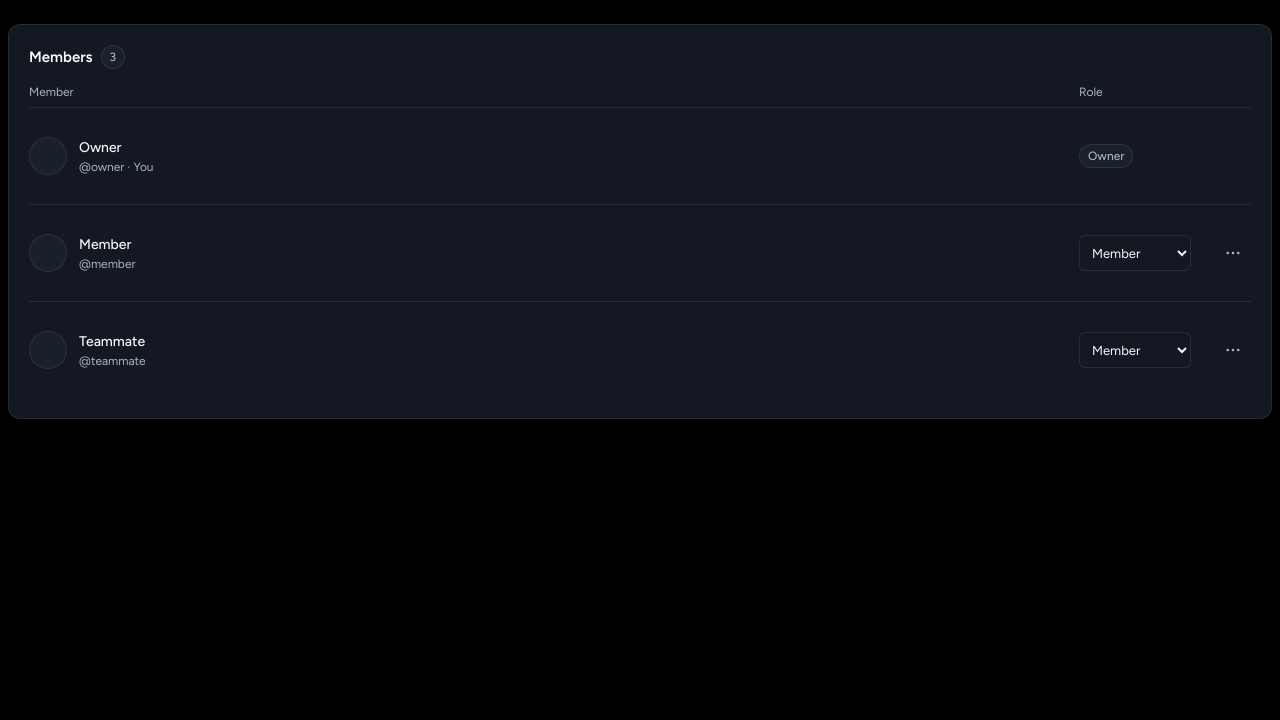
Test case: group member management client flow › keeps a failed removal confirmation open and allows retry
The image size is (1280, 720).
Click the button named "Manage @member" at (1233, 253), box [1215, 235, 1251, 271]
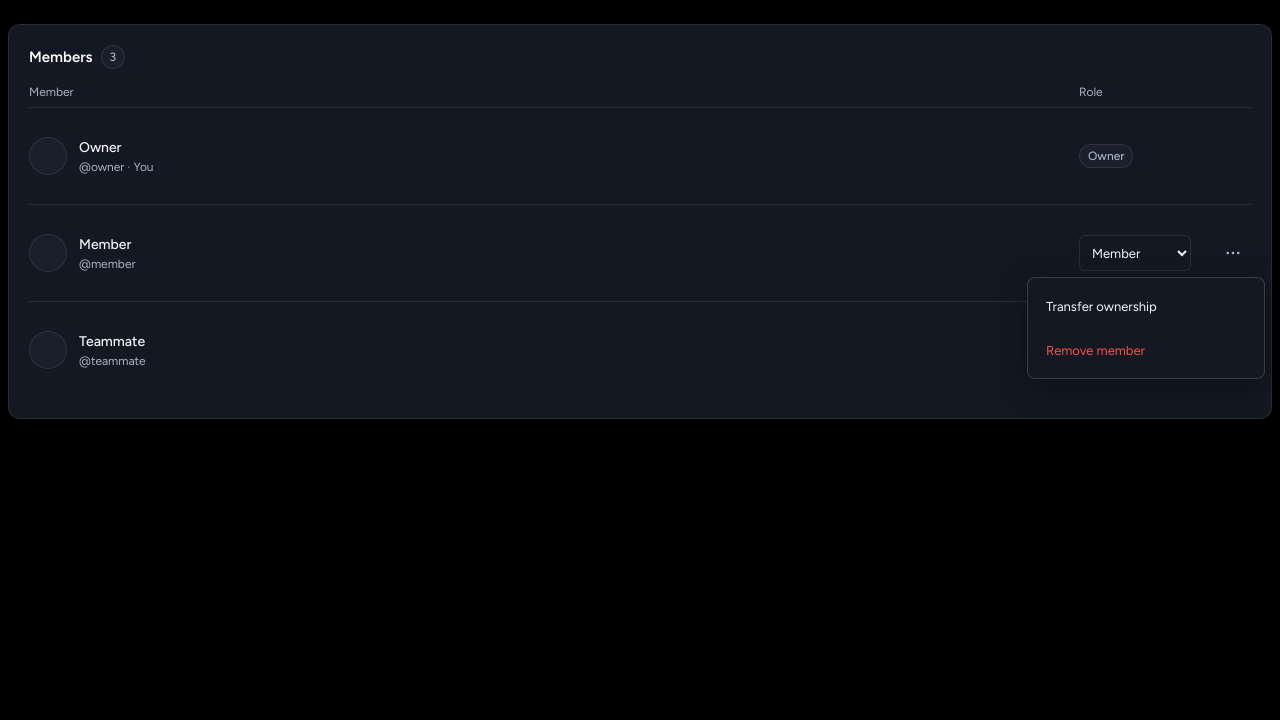
Click the button with aria-label "Remove @member" at (1146, 350), box [1034, 328, 1258, 372]
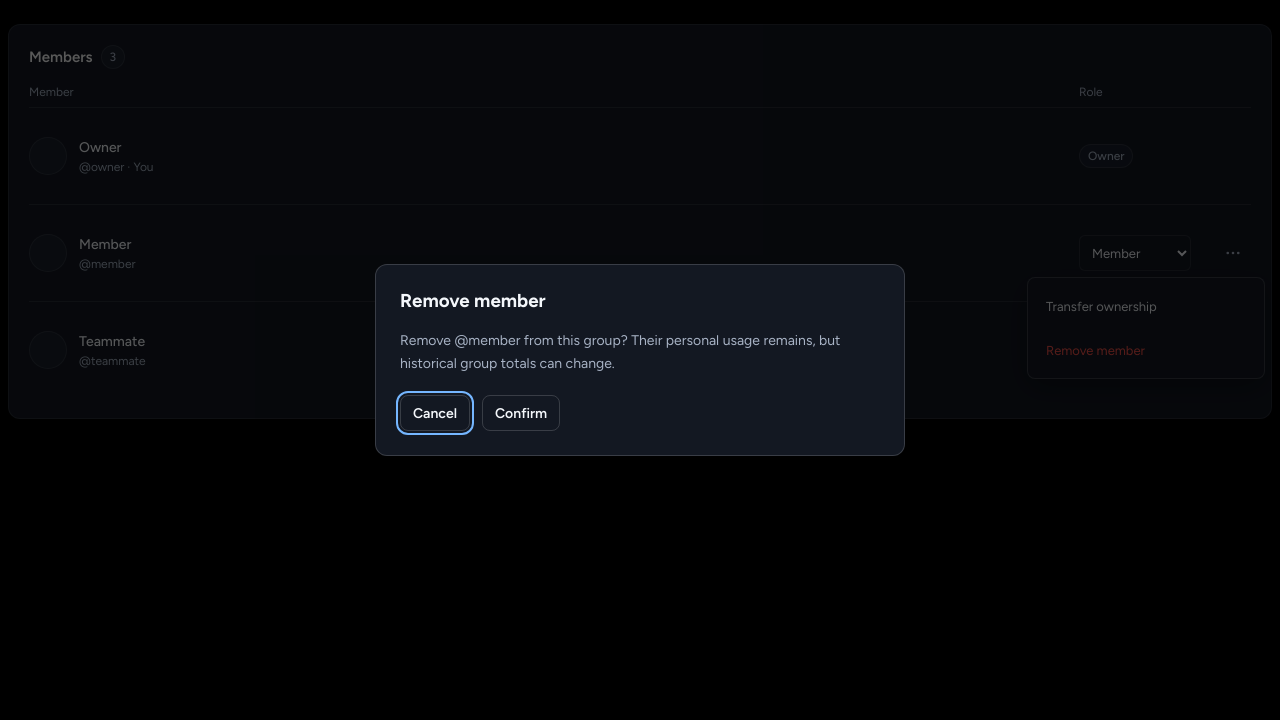
Click the button "Confirm" at (521, 413), box [482, 395, 560, 431]
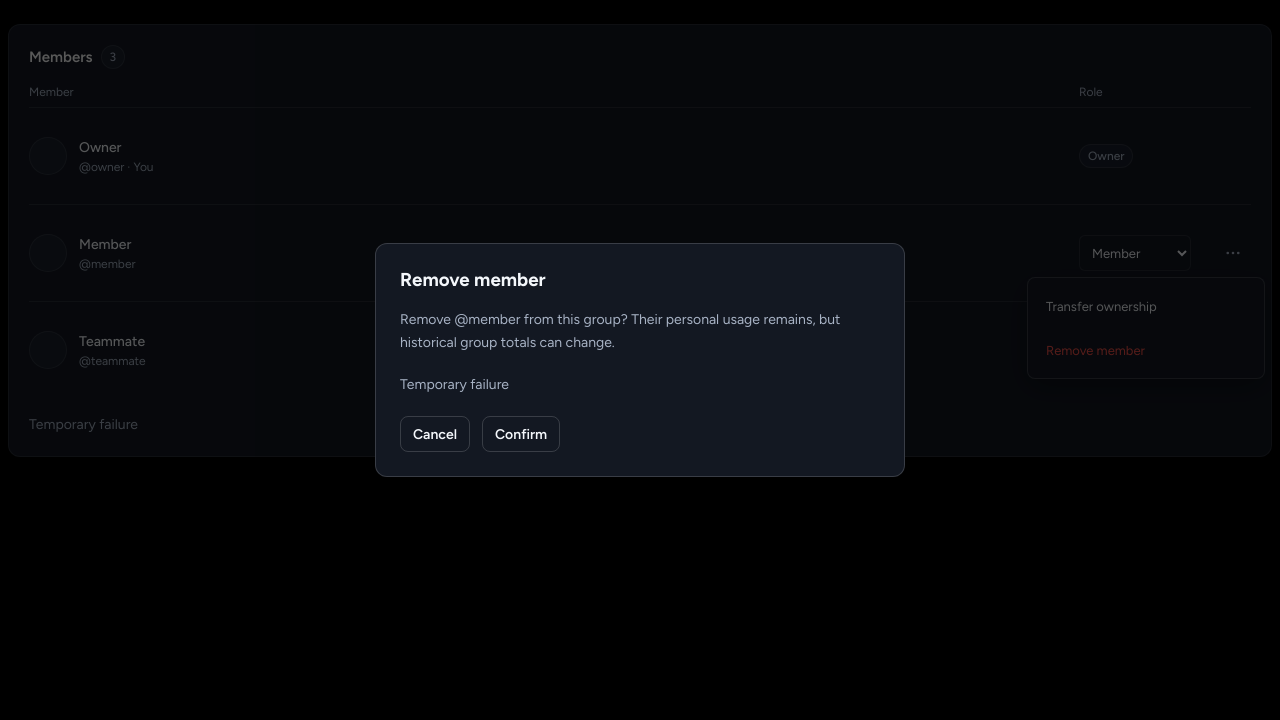
Expected: the dialog is shown, [375, 242, 905, 477]
Expected: the text "Temporary failure" is shown 2 times, [29, 416, 138, 433]; [400, 376, 509, 393]
Click the button "Confirm" at (521, 434), box [482, 416, 560, 452]
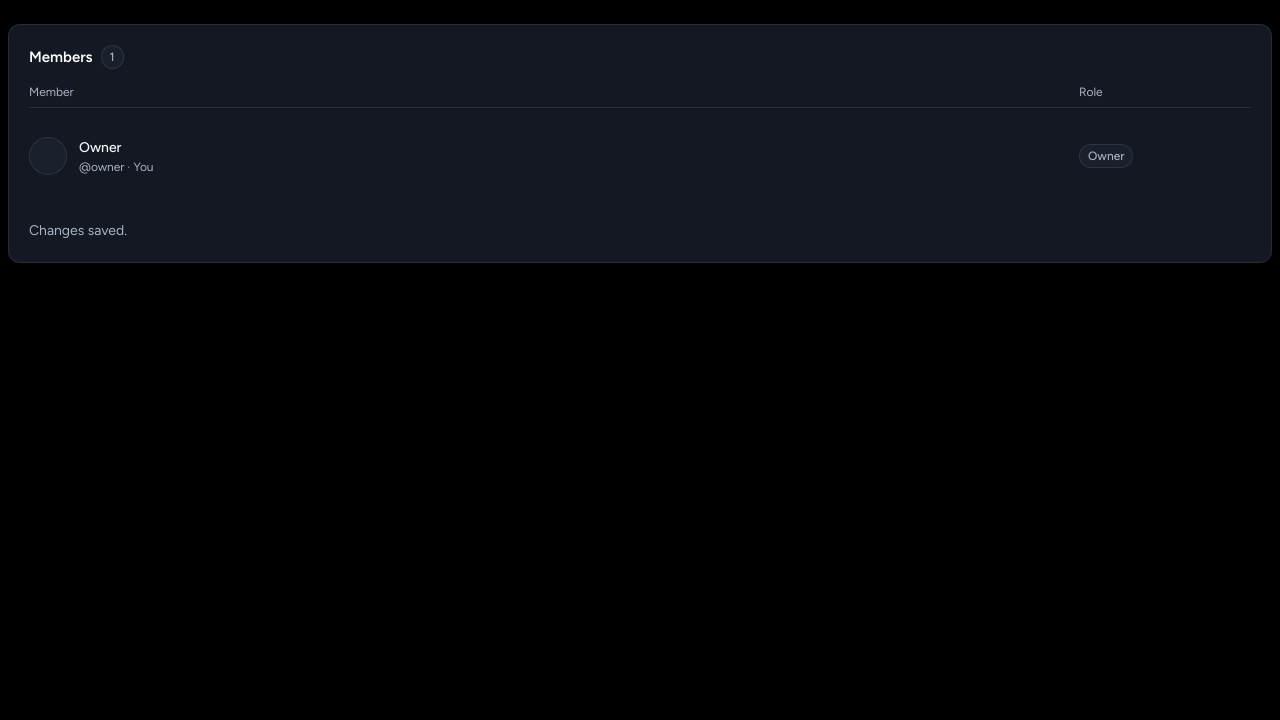
Expected: the dialog is gone
Expected: the text "Manage @member" is gone
